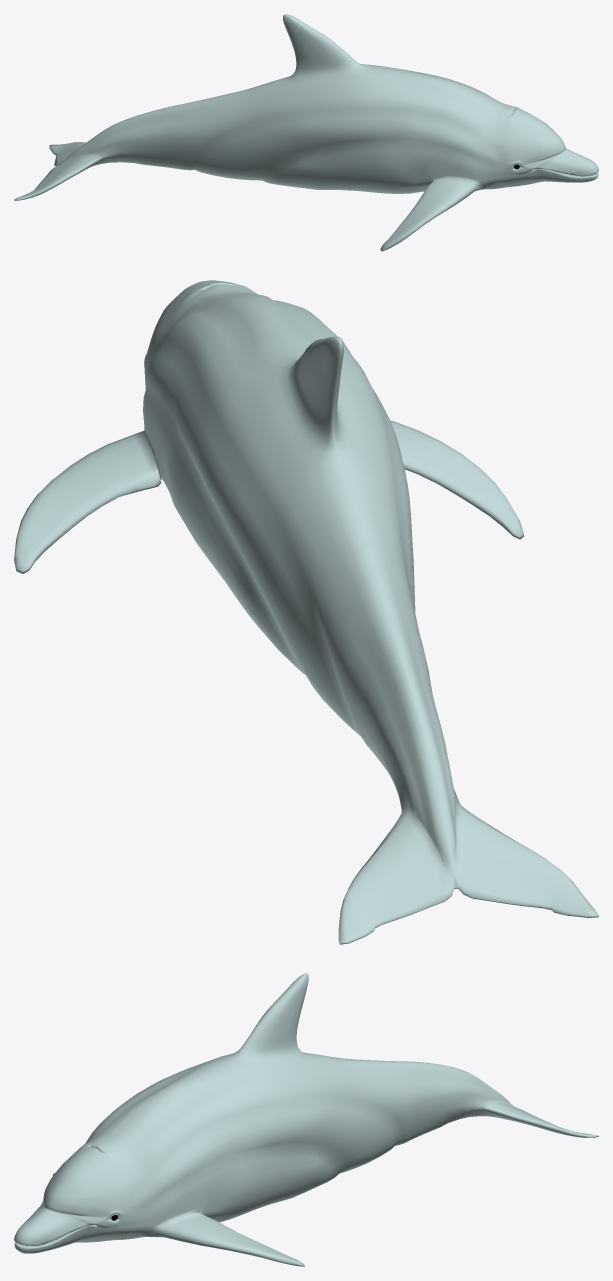
The model's file is dolphin_000014.obj.
The picture shows the model from 3 angles, top to bottom: view 1: azimuth 30°, elevation 25°; view 2: azimuth 150°, elevation 25°; view 3: azimuth 270°, elevation 25°; orthographic projection. The views are drawn at different scales.
Visible parts, largest first — view 1: Dolphin; view 2: Dolphin; view 3: Dolphin.
Boxes of the visible parts, x1,y1,x2,y2 form: Dolphin: (14,14,598,251); Dolphin: (14,280,598,944); Dolphin: (14,973,598,1266).
Bounding box in the file's own units: 5.52 × 2.5 × 5.6.
